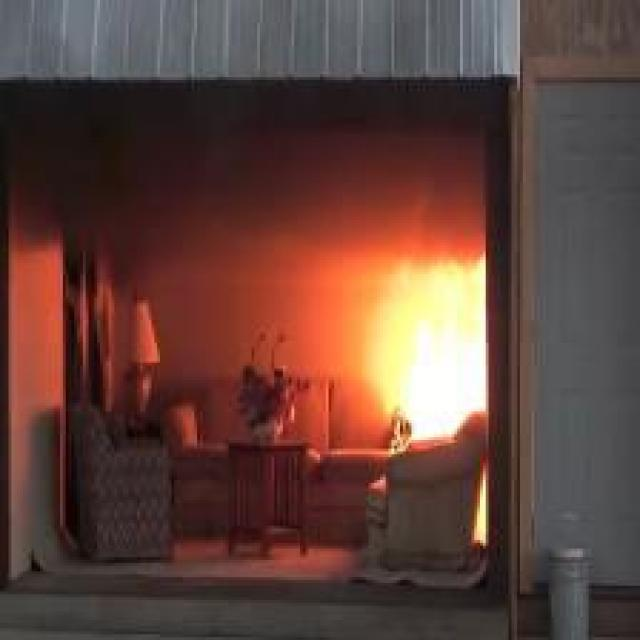fire: (361, 252, 485, 442), (470, 464, 485, 545)
